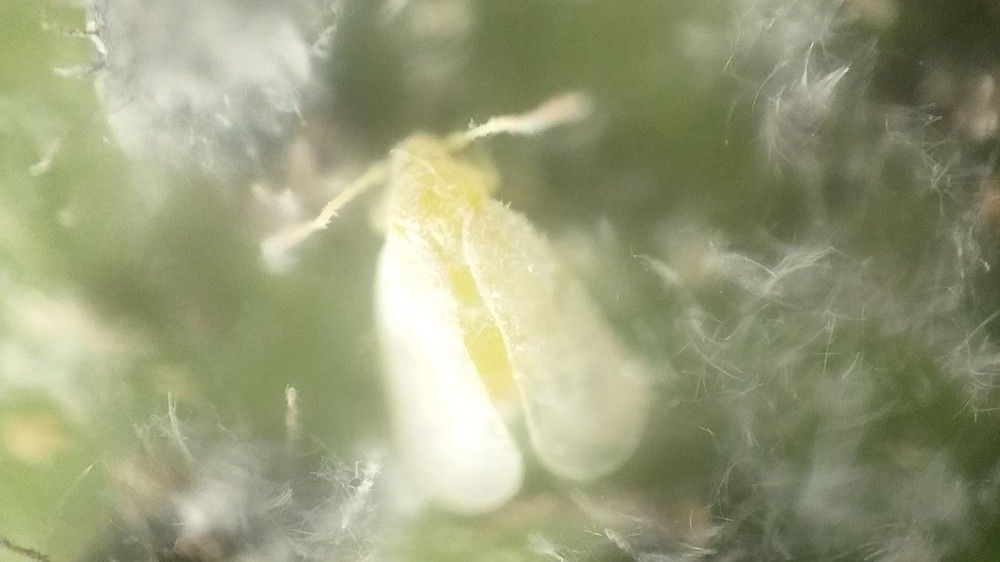Mosca Blanca: (248, 90, 689, 517)
